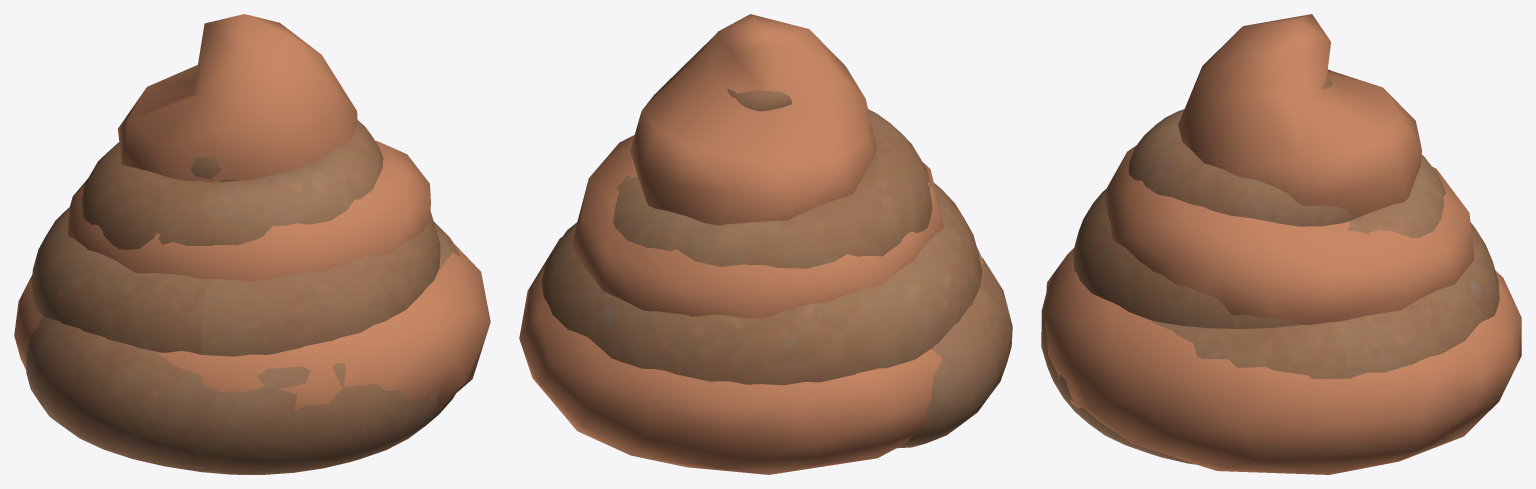
The model's file is Grenade_Shit.fbx.
3 renders of one model, left to right at view 1: azimuth 30°, elevation 25°; view 2: azimuth 150°, elevation 25°; view 3: azimuth 270°, elevation 25°, orthographic.
Visible parts, largest first — view 1: shi, SM_Shit; view 2: SM_Shit, shi; view 3: SM_Shit, shi.
Boxes of the visible parts, <box> form: shi: <box>26,120,459,474</box>; SM_Shit: <box>14,14,490,430</box>; SM_Shit: <box>519,14,983,474</box>; shi: <box>541,88,1012,448</box>; SM_Shit: <box>1045,14,1521,474</box>; shi: <box>1041,77,1499,464</box>.
Bounding box in the file's own units: 0.4109 × 0.3611 × 0.4016.
